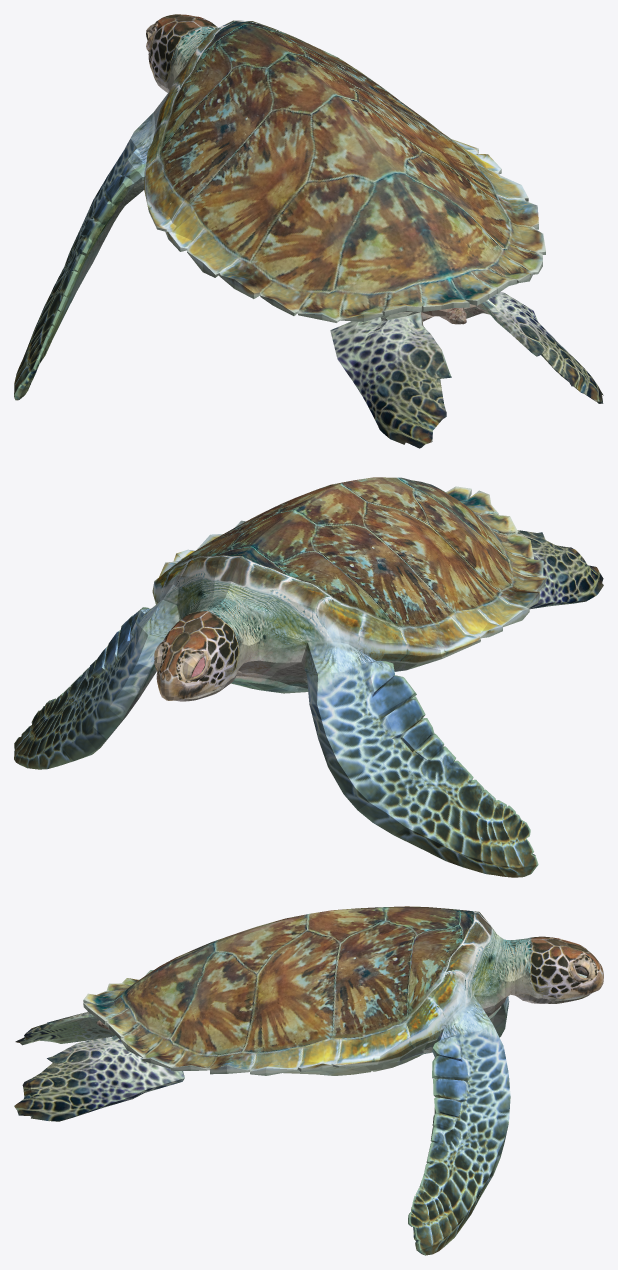
File: frame_11.obj
3 renders of one model, top to bottom at view 1: azimuth 30°, elevation 25°; view 2: azimuth 150°, elevation 25°; view 3: azimuth 270°, elevation 25°, orthographic. The views are drawn at different scales.
Parts seen in each view (by area): view 1: Turtle GEO Turtle; view 2: Turtle GEO Turtle; view 3: Turtle GEO Turtle.
Part boxes in pixels (x1=…): Turtle GEO Turtle: x1=14, y1=14, x2=603, y2=448; Turtle GEO Turtle: x1=14, y1=477, x2=603, y2=877; Turtle GEO Turtle: x1=14, y1=906, x2=603, y2=1255.
Bounding box in the file's own units: 83.71 × 45.08 × 98.82.
1 material, 1 textured.
